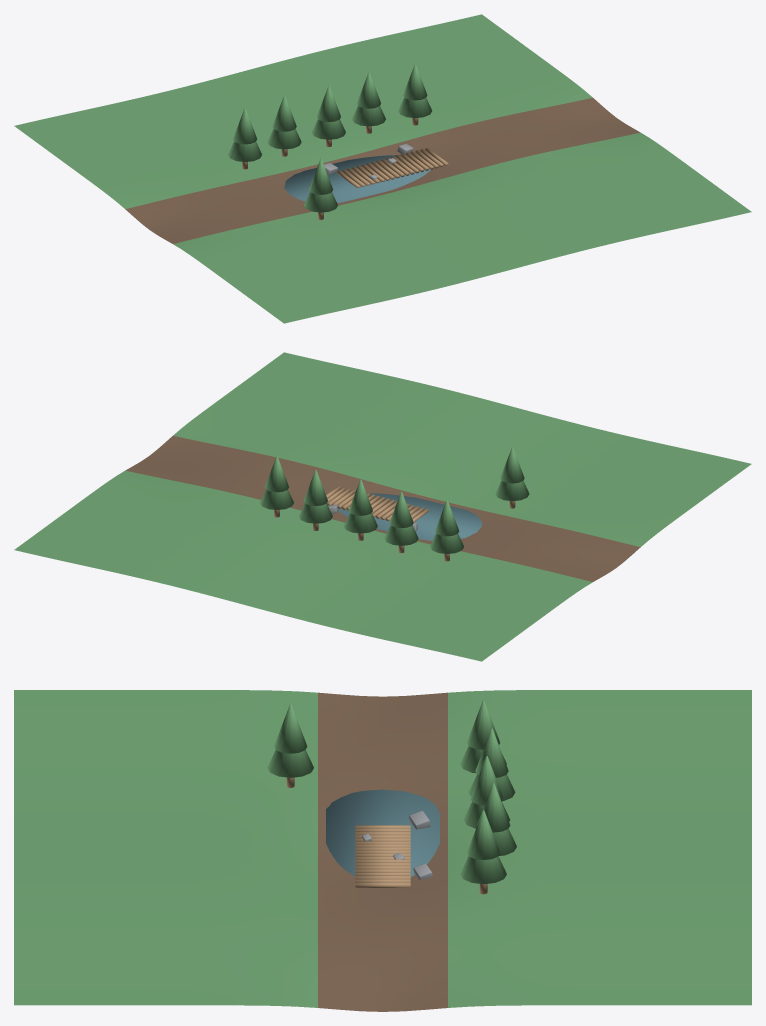
Rendered from chapter_02_mudbog.glb.
3 views of the same model, one above another, from view 1: azimuth 30°, elevation 25°; view 2: azimuth 150°, elevation 25°; view 3: azimuth 270°, elevation 25° (orthographic). The views are drawn at different scales.
Parts seen in each view (by area): view 1: Chapter_Environment; view 2: Chapter_Environment; view 3: Chapter_Environment.
Boxes of the visible parts, box(x1,y1,x2,y2) form: Chapter_Environment: box(14, 14, 751, 323); Chapter_Environment: box(14, 352, 751, 661); Chapter_Environment: box(14, 690, 751, 1011).
Bounding box in the file's own units: 44 × 6.03 × 44.
